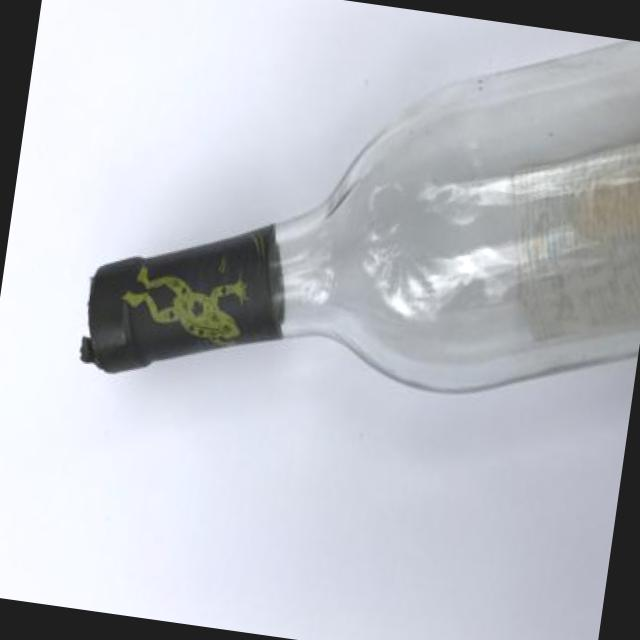chai_thuy_tinh: (81, 40, 640, 393)
